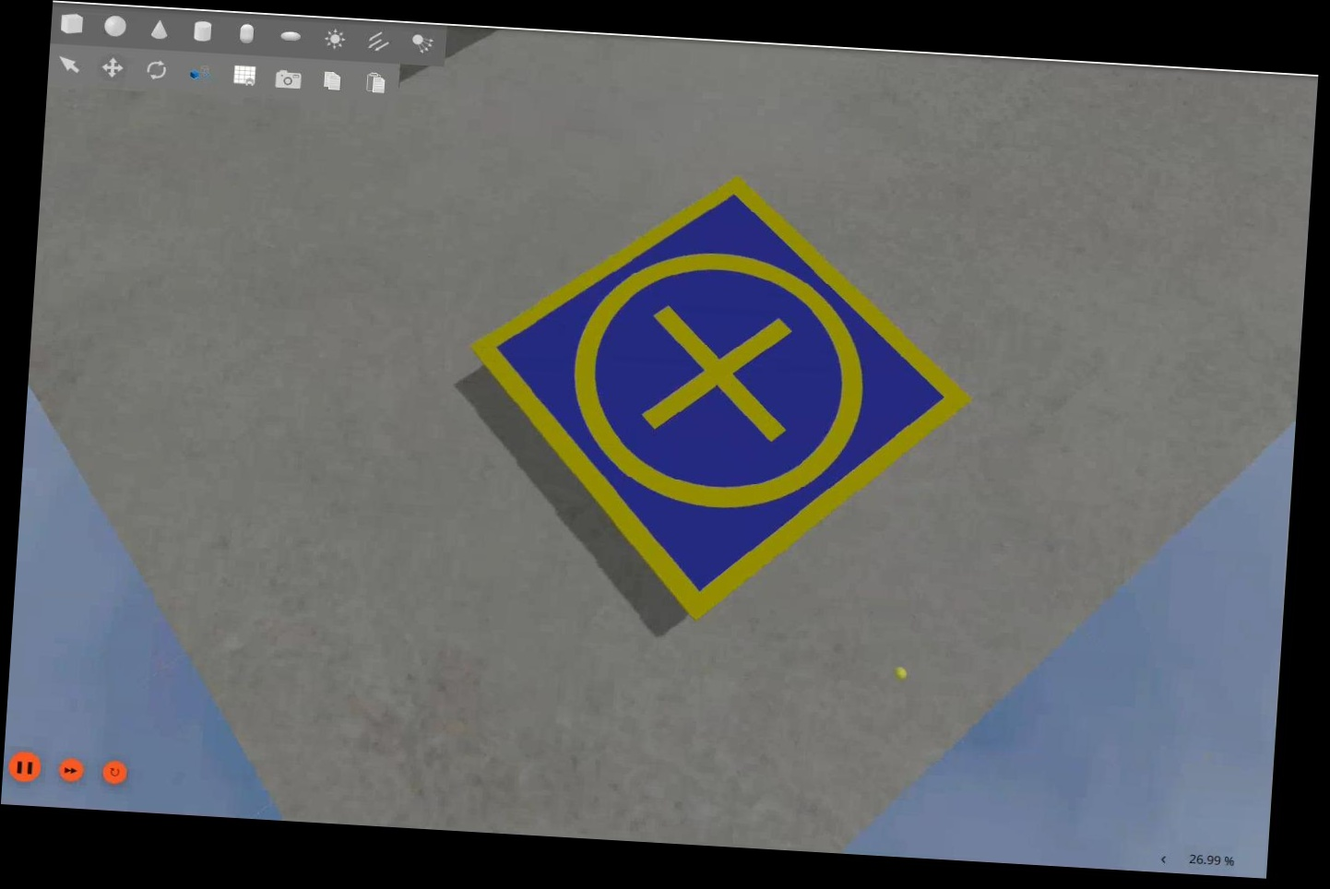small_base: (450, 163, 994, 635)
